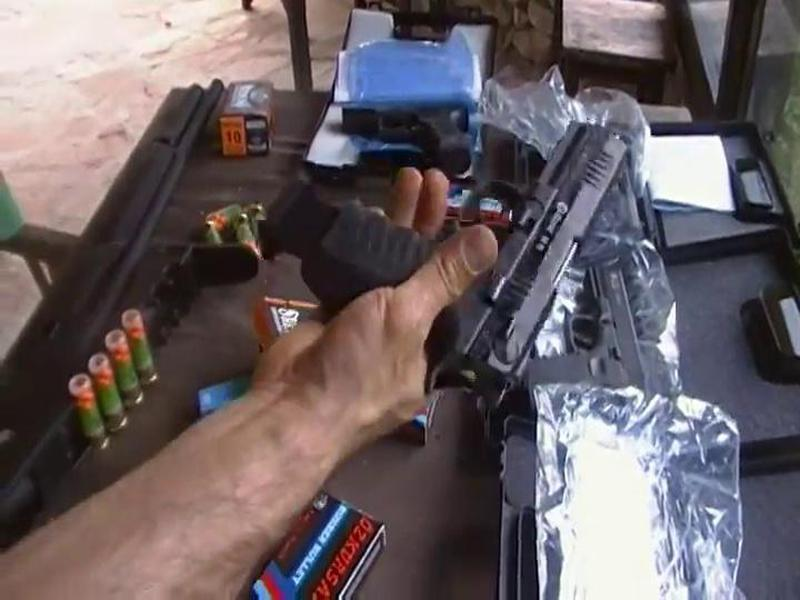Pistola: (278, 59, 628, 426)
